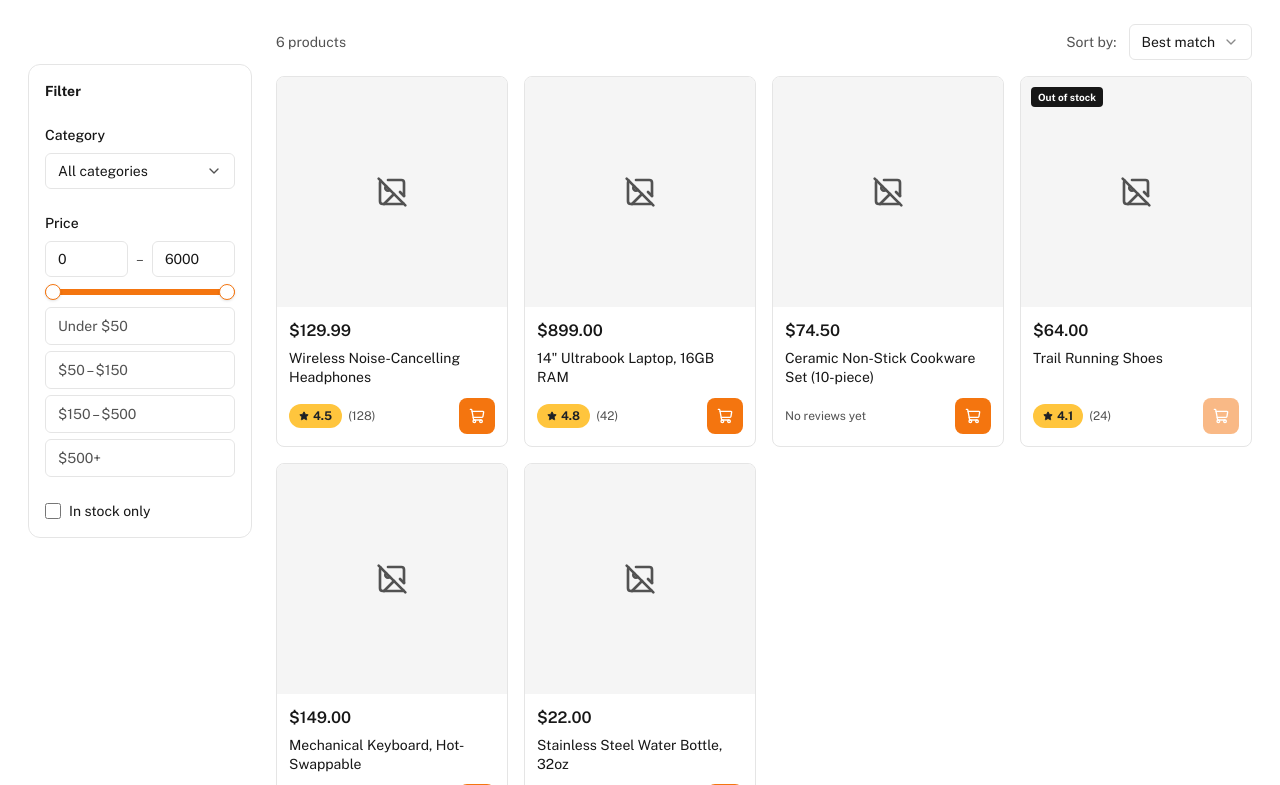
Test: categories across screens › offers the whole system list in the search filter, by name
Click the dropdown named "Category" at {"x": 140, "y": 171}, box [45, 153, 235, 189]
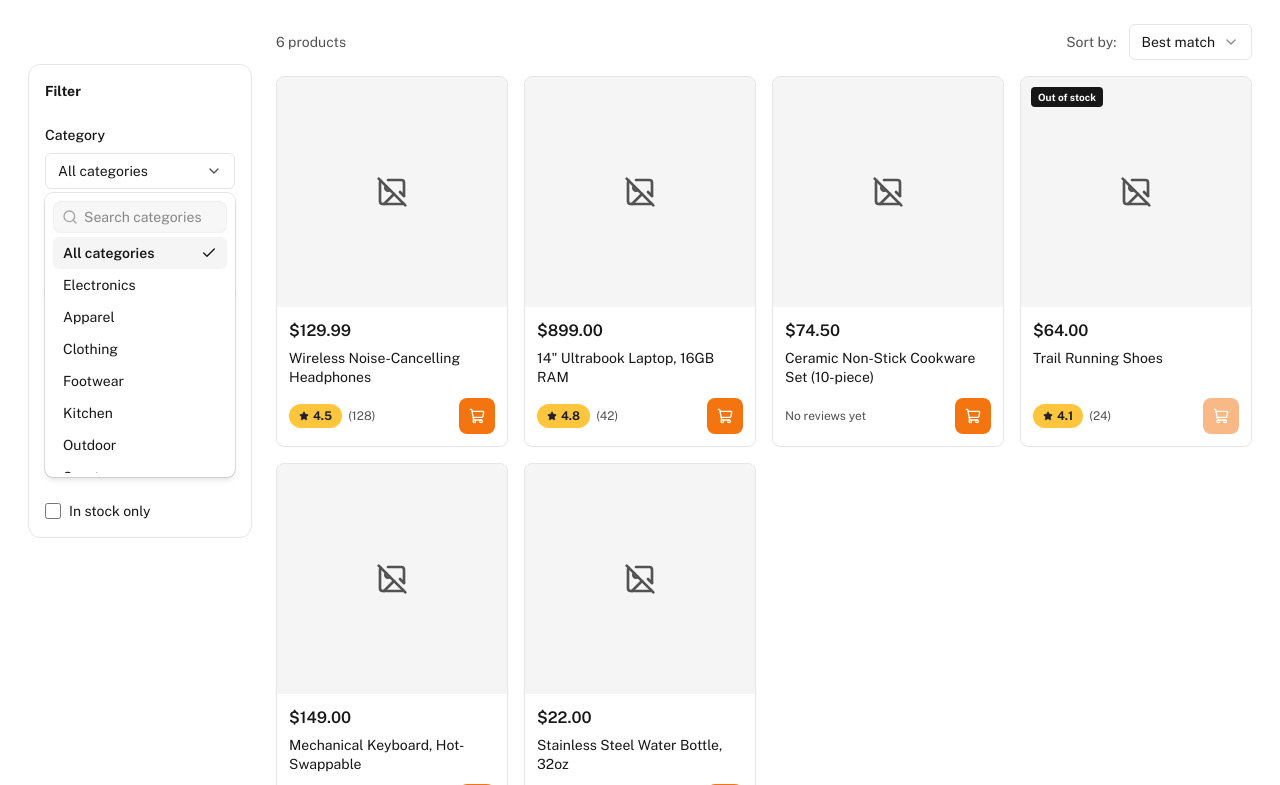
Check: the option "Electronics" is shown, box [63, 277, 136, 293]
Check: the option "Apparel" is shown, box [63, 309, 115, 325]
Check: the option "Clothing" is shown, box [63, 341, 118, 357]
